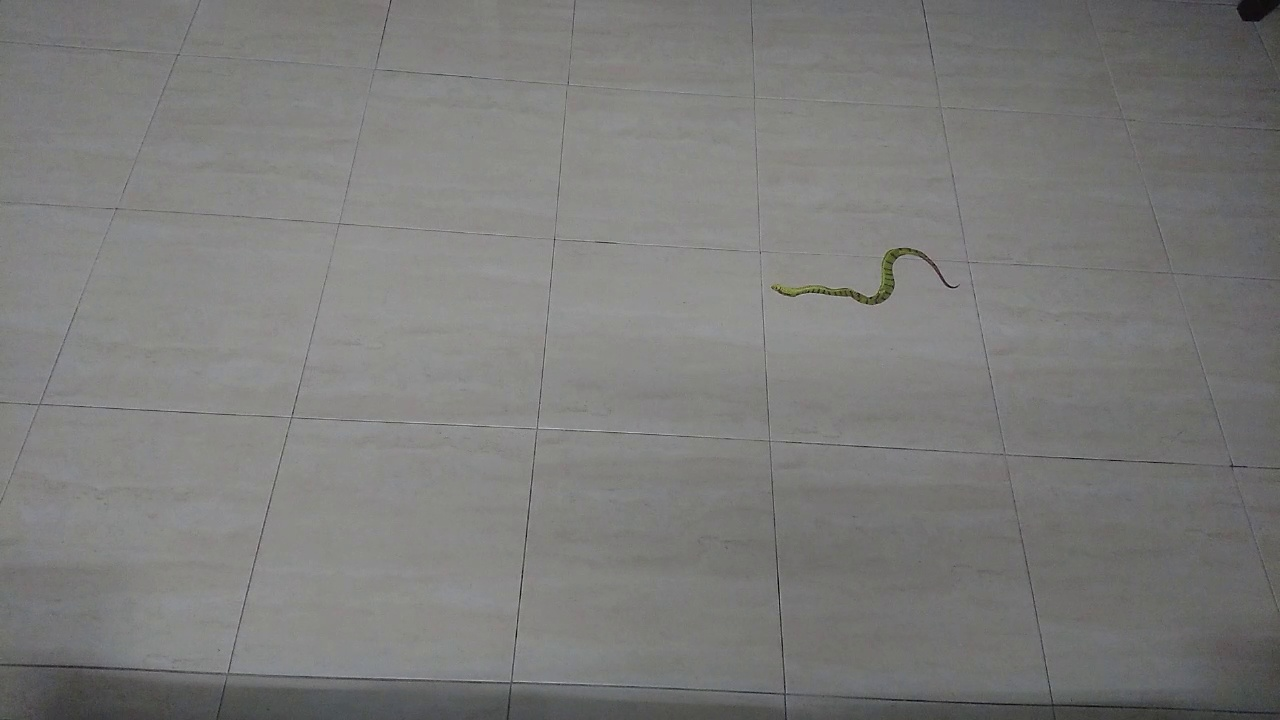snake: (747, 218, 977, 324)
